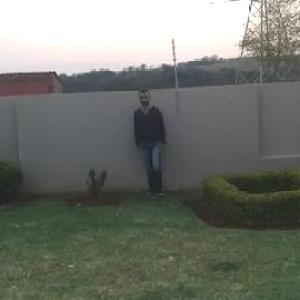follow: (132, 85, 168, 201)
